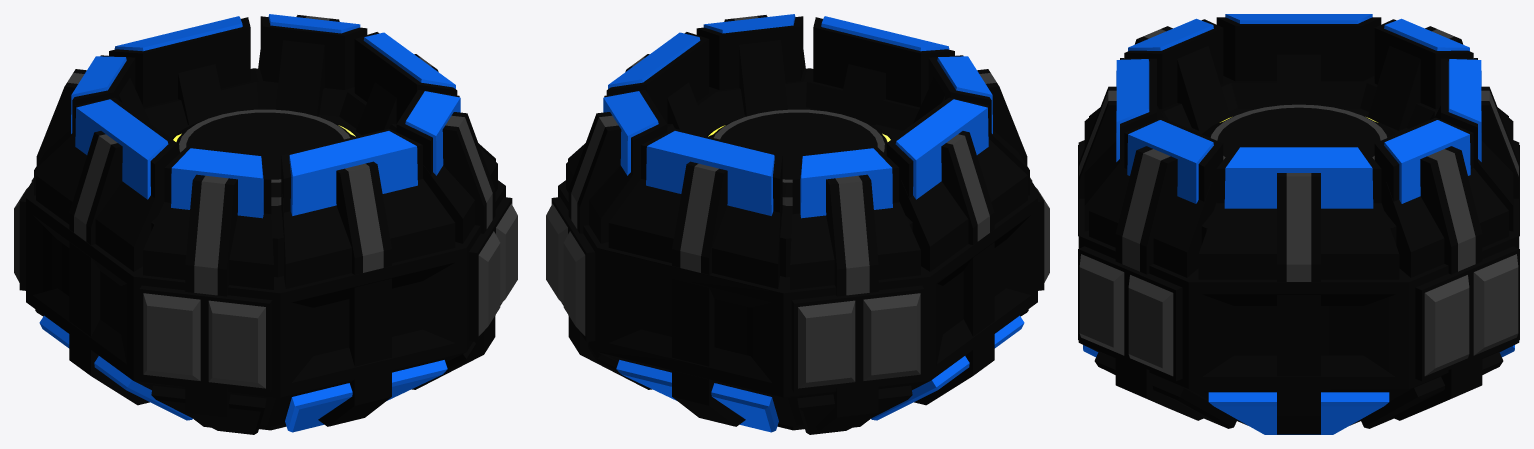
The model's file is 01_turretbase_pulseHowitser.glb.
3 views of the same model, side by side, from view 1: azimuth 30°, elevation 25°; view 2: azimuth 150°, elevation 25°; view 3: azimuth 270°, elevation 25° (orthographic). The views are drawn at different scales.
Visible parts, largest first — view 1: 01_turretbase_pulseHowitser; view 2: 01_turretbase_pulseHowitser; view 3: 01_turretbase_pulseHowitser.
Part boxes in pixels (x1,y1,x2,y2): 01_turretbase_pulseHowitser: [14, 14, 517, 434]; 01_turretbase_pulseHowitser: [546, 14, 1049, 434]; 01_turretbase_pulseHowitser: [1078, 14, 1519, 434].
Size of the model in its own units: 1 by 0.7775 by 1.
